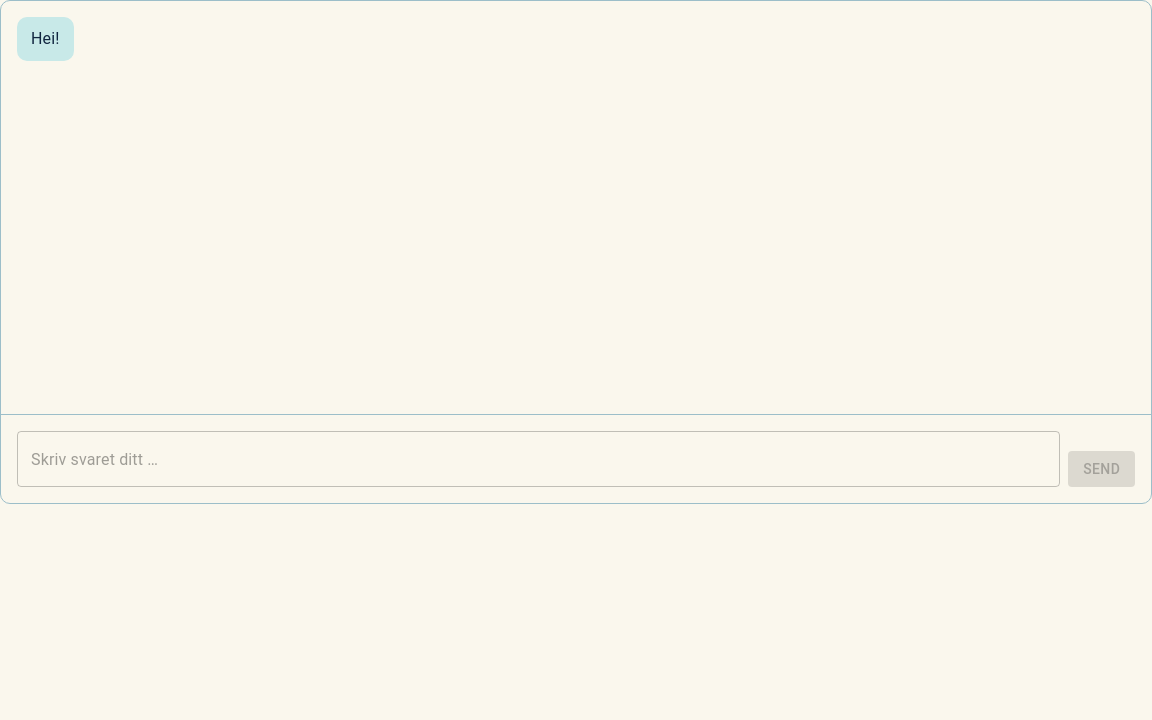
Test case: AgentChat › sends the whole conversation, initial messages included
Type "Butikkmedarbeider" into the text box named "Melding" at (539, 459), box top-left (31, 448), bottom-right (1046, 470)
Then press Enter
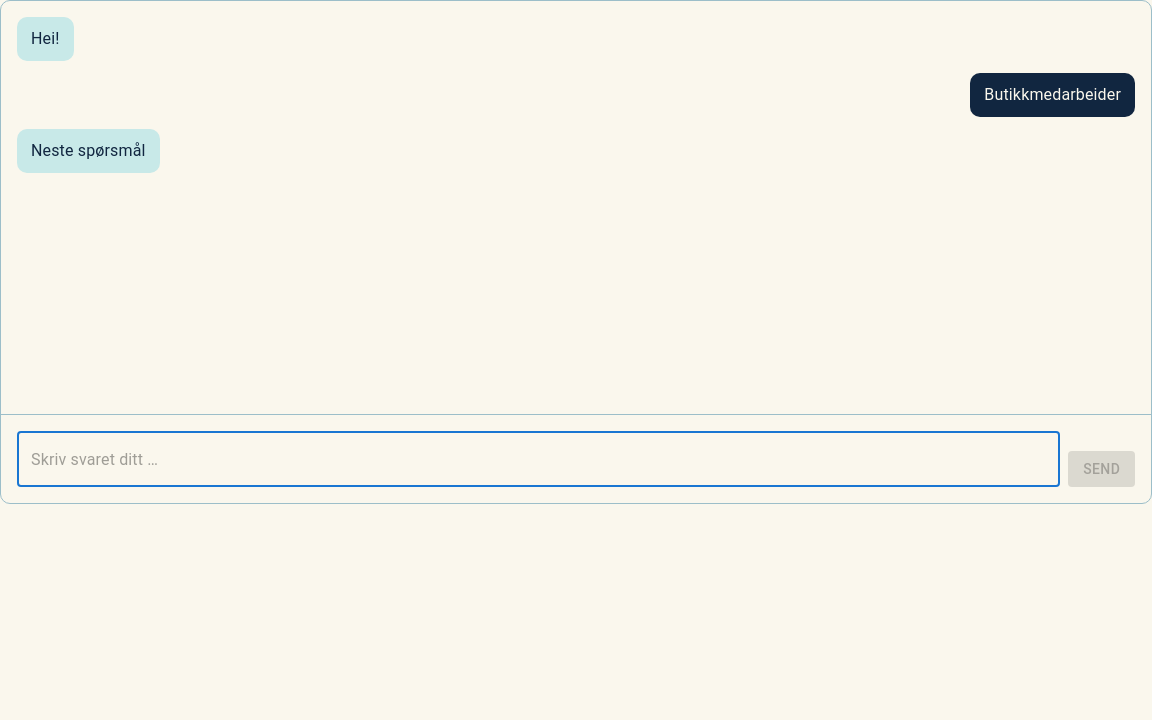
Expected: the list item "Neste spørsmål" is shown, top-left (17, 129), bottom-right (160, 173)
